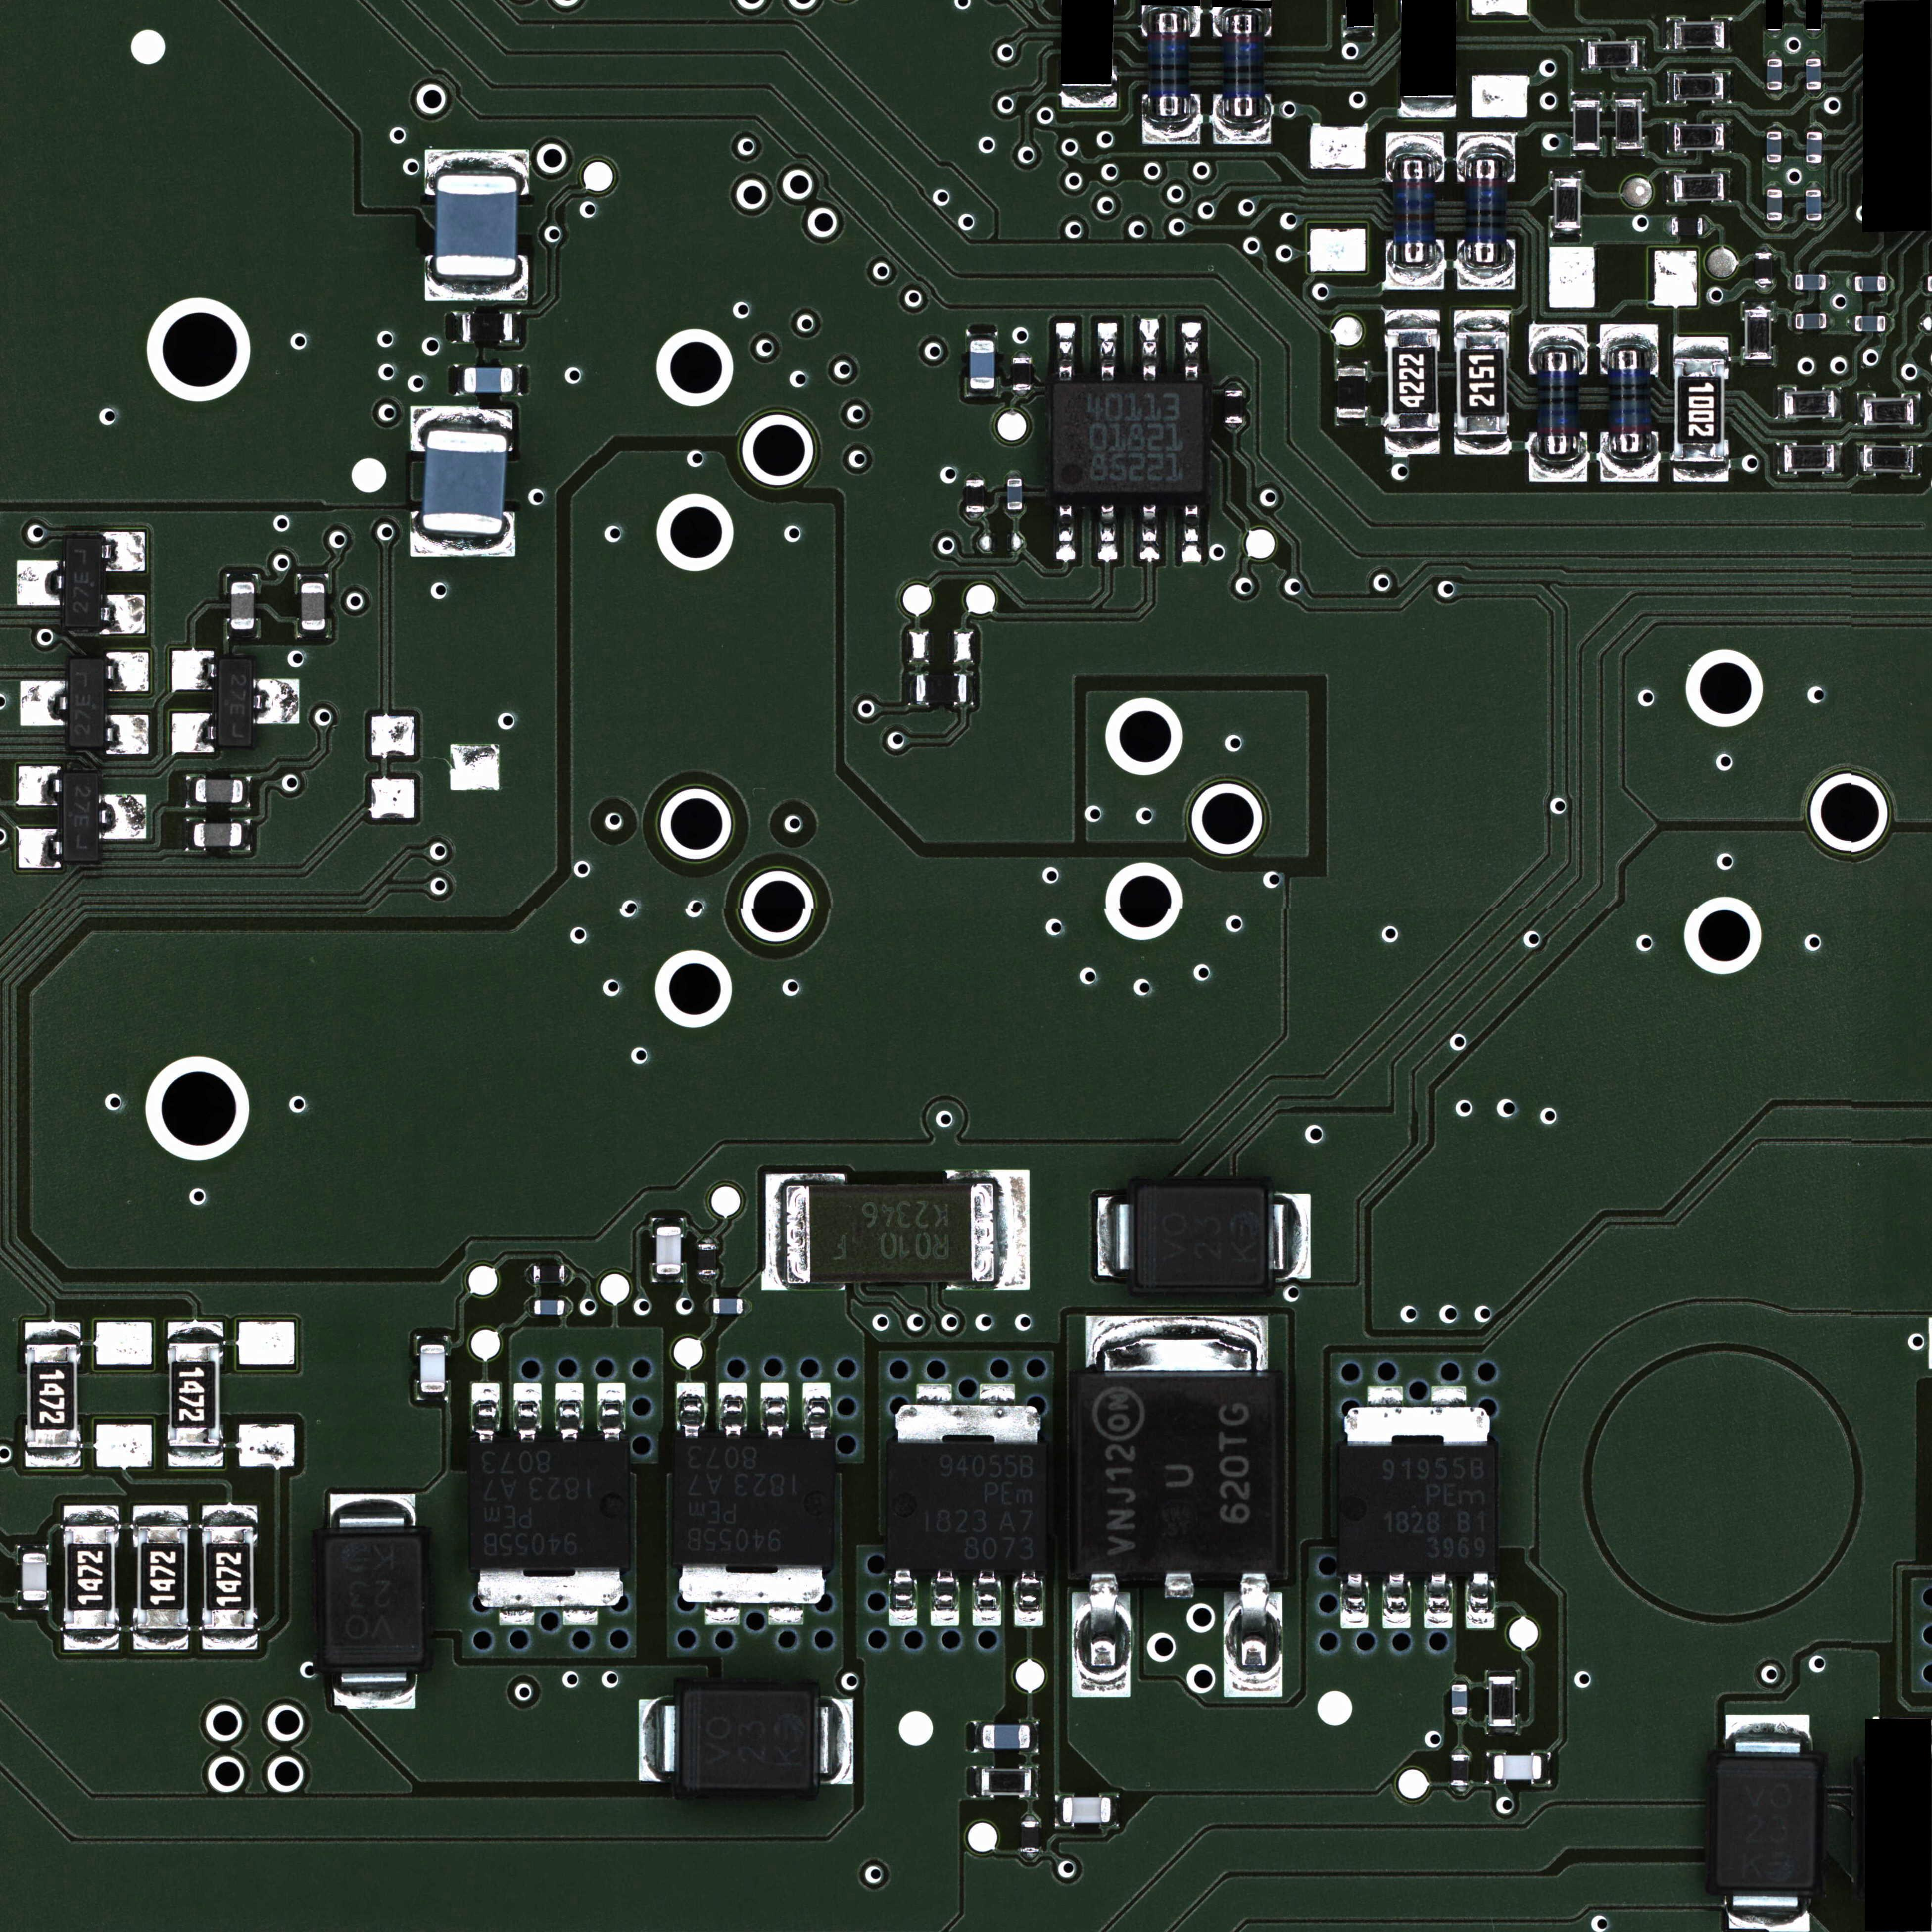Package: (1071, 1373, 1286, 1572), (885, 1443, 1049, 1572), (672, 1438, 836, 1565), (782, 1181, 993, 1279), (1337, 1444, 1498, 1571), (470, 1441, 628, 1566), (1052, 383, 1206, 503), (1708, 1756, 1820, 1893), (678, 1687, 818, 1792), (318, 1533, 426, 1670), (1134, 1187, 1271, 1291), (422, 433, 506, 535), (435, 177, 519, 275), (1141, 3, 1201, 123), (1214, 6, 1271, 124), (133, 1527, 187, 1630), (65, 1525, 117, 1630), (1675, 358, 1727, 462), (1456, 331, 1507, 435), (170, 1342, 222, 1447), (27, 1343, 79, 1447), (1387, 328, 1438, 432), (203, 1526, 254, 1629), (1391, 152, 1436, 264), (1464, 152, 1509, 264), (1537, 350, 1583, 458), (1608, 349, 1654, 457), (65, 536, 102, 628), (68, 659, 105, 749), (217, 658, 252, 748), (63, 773, 98, 861), (916, 675, 967, 703), (1337, 368, 1366, 417), (462, 314, 512, 342), (1784, 391, 1835, 418), (1673, 75, 1724, 101), (1784, 446, 1835, 472), (1745, 309, 1771, 360), (1864, 399, 1914, 425), (1617, 99, 1642, 149), (1574, 100, 1599, 150), (1674, 23, 1724, 48), (1863, 447, 1913, 472), (1063, 1797, 1111, 1823), (1673, 125, 1724, 150), (981, 1770, 1031, 1795), (1674, 176, 1724, 200), (1490, 1676, 1514, 1727), (1588, 43, 1638, 67), (970, 339, 994, 389), (1555, 179, 1580, 228), (421, 1344, 445, 1392), (656, 1227, 681, 1274), (464, 368, 513, 392), (195, 779, 242, 804), (301, 582, 326, 630), (982, 1725, 1030, 1749), (1494, 1756, 1542, 1780), (231, 582, 254, 630), (23, 1553, 47, 1600), (194, 823, 241, 847), (966, 480, 985, 512), (1225, 390, 1244, 423), (1013, 357, 1031, 389), (1021, 1821, 1040, 1853), (698, 1244, 717, 1275), (1755, 253, 1774, 285), (1451, 1754, 1469, 1787), (533, 1265, 565, 1283), (1672, 218, 1703, 235), (1806, 189, 1822, 221), (1795, 313, 1827, 329), (1807, 131, 1823, 163), (1795, 274, 1827, 290), (1767, 189, 1783, 221), (1854, 276, 1886, 292), (1007, 479, 1022, 510), (1767, 59, 1783, 90), (713, 1298, 743, 1314), (1855, 316, 1885, 332), (1806, 58, 1822, 89), (1452, 1685, 1467, 1715), (1767, 131, 1782, 162), (534, 1300, 564, 1314)
Solder: (1085, 1315, 1268, 1372), (1071, 1573, 1133, 1697), (1223, 1573, 1283, 1697), (995, 1172, 1029, 1290), (1726, 1715, 1810, 1753), (1726, 1893, 1810, 1932), (331, 1494, 417, 1532), (639, 1699, 677, 1782), (334, 1671, 417, 1708), (1274, 1195, 1310, 1279), (819, 1696, 852, 1784), (410, 531, 517, 558), (425, 149, 529, 176), (424, 277, 528, 302), (1098, 1198, 1129, 1277), (411, 408, 514, 432), (764, 1176, 782, 1291), (20, 681, 68, 725), (99, 794, 146, 838), (253, 679, 300, 724), (17, 561, 63, 605), (102, 594, 147, 634), (471, 1384, 501, 1443), (512, 1384, 543, 1442), (172, 651, 216, 690), (18, 765, 62, 805), (172, 713, 216, 752), (106, 652, 149, 691), (1465, 1572, 1495, 1629), (19, 829, 61, 869), (106, 715, 149, 754), (1382, 1572, 1412, 1629), (802, 1384, 833, 1437), (555, 1384, 584, 1442), (103, 532, 145, 571), (1341, 1572, 1369, 1628), (1425, 1572, 1453, 1629), (598, 1383, 626, 1441), (677, 1383, 706, 1439), (761, 1384, 790, 1439), (889, 1570, 918, 1626), (718, 1383, 747, 1436), (1386, 263, 1445, 290), (972, 1574, 1002, 1626), (931, 1572, 959, 1625), (1014, 1576, 1044, 1625), (1600, 457, 1658, 482), (1529, 325, 1587, 350), (1600, 325, 1658, 349), (1529, 459, 1588, 482), (1457, 265, 1514, 289), (1385, 433, 1440, 456), (1059, 87, 1118, 108), (1142, 123, 1200, 144), (25, 1322, 81, 1344), (1386, 132, 1446, 152), (1457, 132, 1516, 152), (1213, 124, 1272, 145), (1139, 505, 1160, 562), (1397, 98, 1457, 118), (201, 1505, 258, 1526), (1097, 505, 1118, 561), (1056, 505, 1076, 562), (1673, 463, 1730, 483), (1454, 435, 1511, 456), (63, 1505, 119, 1526), (1673, 337, 1729, 357), (1140, 318, 1159, 381), (1182, 322, 1201, 381), (133, 1505, 189, 1526), (1182, 505, 1201, 564), (168, 1447, 223, 1467), (1098, 322, 1117, 381), (133, 1631, 189, 1651), (168, 1322, 223, 1342), (202, 1631, 258, 1650), (25, 1449, 81, 1468), (1057, 322, 1075, 381), (1453, 311, 1510, 330), (1384, 309, 1440, 328), (64, 1631, 119, 1650), (980, 1382, 1017, 1404), (916, 1382, 953, 1404), (1367, 1386, 1403, 1407), (1430, 1386, 1466, 1406), (1164, 1573, 1194, 1598), (705, 1605, 739, 1626), (769, 1605, 803, 1626), (499, 1609, 534, 1625), (563, 1609, 597, 1625), (972, 1721, 982, 1752), (454, 365, 464, 395), (242, 820, 252, 851), (1542, 1753, 1551, 1785), (1742, 300, 1774, 309), (965, 389, 1001, 397), (1341, 28, 1375, 37), (417, 1335, 448, 1344), (225, 573, 258, 581), (971, 1766, 981, 1797), (1913, 394, 1922, 427), (1549, 169, 1582, 178), (453, 313, 462, 343), (296, 630, 330, 638), (417, 1393, 448, 1401), (1111, 1795, 1119, 1827), (907, 673, 916, 705), (18, 1602, 49, 1611), (653, 1217, 684, 1226), (1571, 91, 1602, 99), (652, 1275, 684, 1283), (1030, 1721, 1039, 1753), (514, 365, 523, 395), (1638, 40, 1647, 70), (297, 573, 329, 581), (1054, 1795, 1063, 1827), (966, 331, 998, 339), (1336, 359, 1368, 368), (1335, 420, 1367, 429), (1550, 229, 1582, 237), (1725, 121, 1733, 152), (1776, 443, 1784, 474), (967, 673, 975, 705), (186, 818, 193, 850), (18, 1545, 48, 1553), (513, 312, 522, 342), (1835, 388, 1843, 419), (1776, 389, 1784, 419), (1486, 1752, 1494, 1784), (1580, 39, 1588, 71), (226, 631, 260, 639), (1666, 18, 1674, 49), (1666, 122, 1674, 152), (1614, 91, 1644, 98), (1666, 173, 1674, 203), (1486, 1727, 1518, 1735), (187, 775, 194, 807), (1743, 360, 1775, 367), (1835, 443, 1843, 473), (1031, 1767, 1039, 1797), (1857, 393, 1864, 426), (1487, 1669, 1517, 1676), (243, 776, 250, 808), (1725, 71, 1732, 102), (1666, 72, 1673, 103), (1614, 150, 1645, 157), (1571, 151, 1602, 157), (1857, 444, 1864, 474), (1725, 172, 1731, 201), (1914, 444, 1921, 474), (1224, 381, 1243, 390), (1225, 425, 1244, 435), (1754, 285, 1775, 293), (1725, 20, 1731, 49), (1754, 244, 1774, 252), (1451, 1787, 1469, 1795), (1451, 1744, 1470, 1753), (1886, 274, 1894, 292), (1664, 216, 1671, 237), (1703, 217, 1710, 237), (966, 473, 985, 480), (965, 512, 984, 519), (1807, 124, 1824, 132), (1767, 122, 1783, 131), (698, 1275, 718, 1282), (1020, 1814, 1040, 1821), (1020, 1853, 1040, 1860), (1805, 221, 1823, 228), (1806, 89, 1824, 96), (1766, 221, 1783, 228), (1766, 90, 1784, 97), (1007, 471, 1022, 478), (1007, 512, 1022, 519), (1827, 312, 1834, 330), (1826, 273, 1833, 291), (1788, 273, 1794, 291), (1807, 181, 1821, 189), (1451, 1677, 1468, 1684), (1766, 182, 1782, 189), (1014, 352, 1032, 358), (1014, 391, 1032, 397), (1451, 1715, 1469, 1722), (1806, 51, 1821, 58), (1766, 51, 1782, 58), (699, 1237, 715, 1244), (528, 1298, 533, 1315), (1849, 315, 1855, 332), (565, 1298, 571, 1315), (744, 1298, 750, 1315), (706, 1298, 712, 1315), (527, 1266, 533, 1283), (1886, 315, 1891, 333), (1849, 275, 1854, 291), (1790, 313, 1795, 330), (566, 1266, 571, 1283), (1805, 30, 1823, 35), (1764, 31, 1784, 35)
